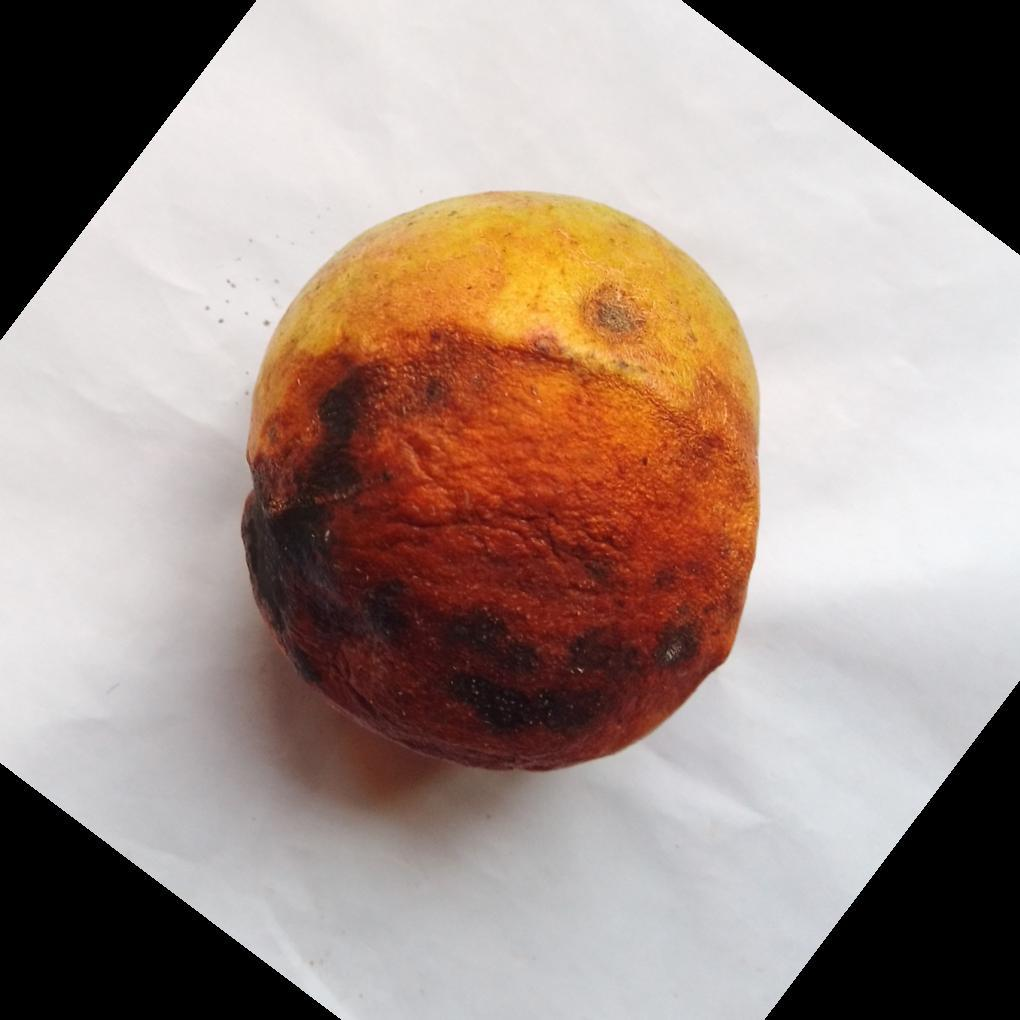FreshOrange: (238, 191, 762, 778)
